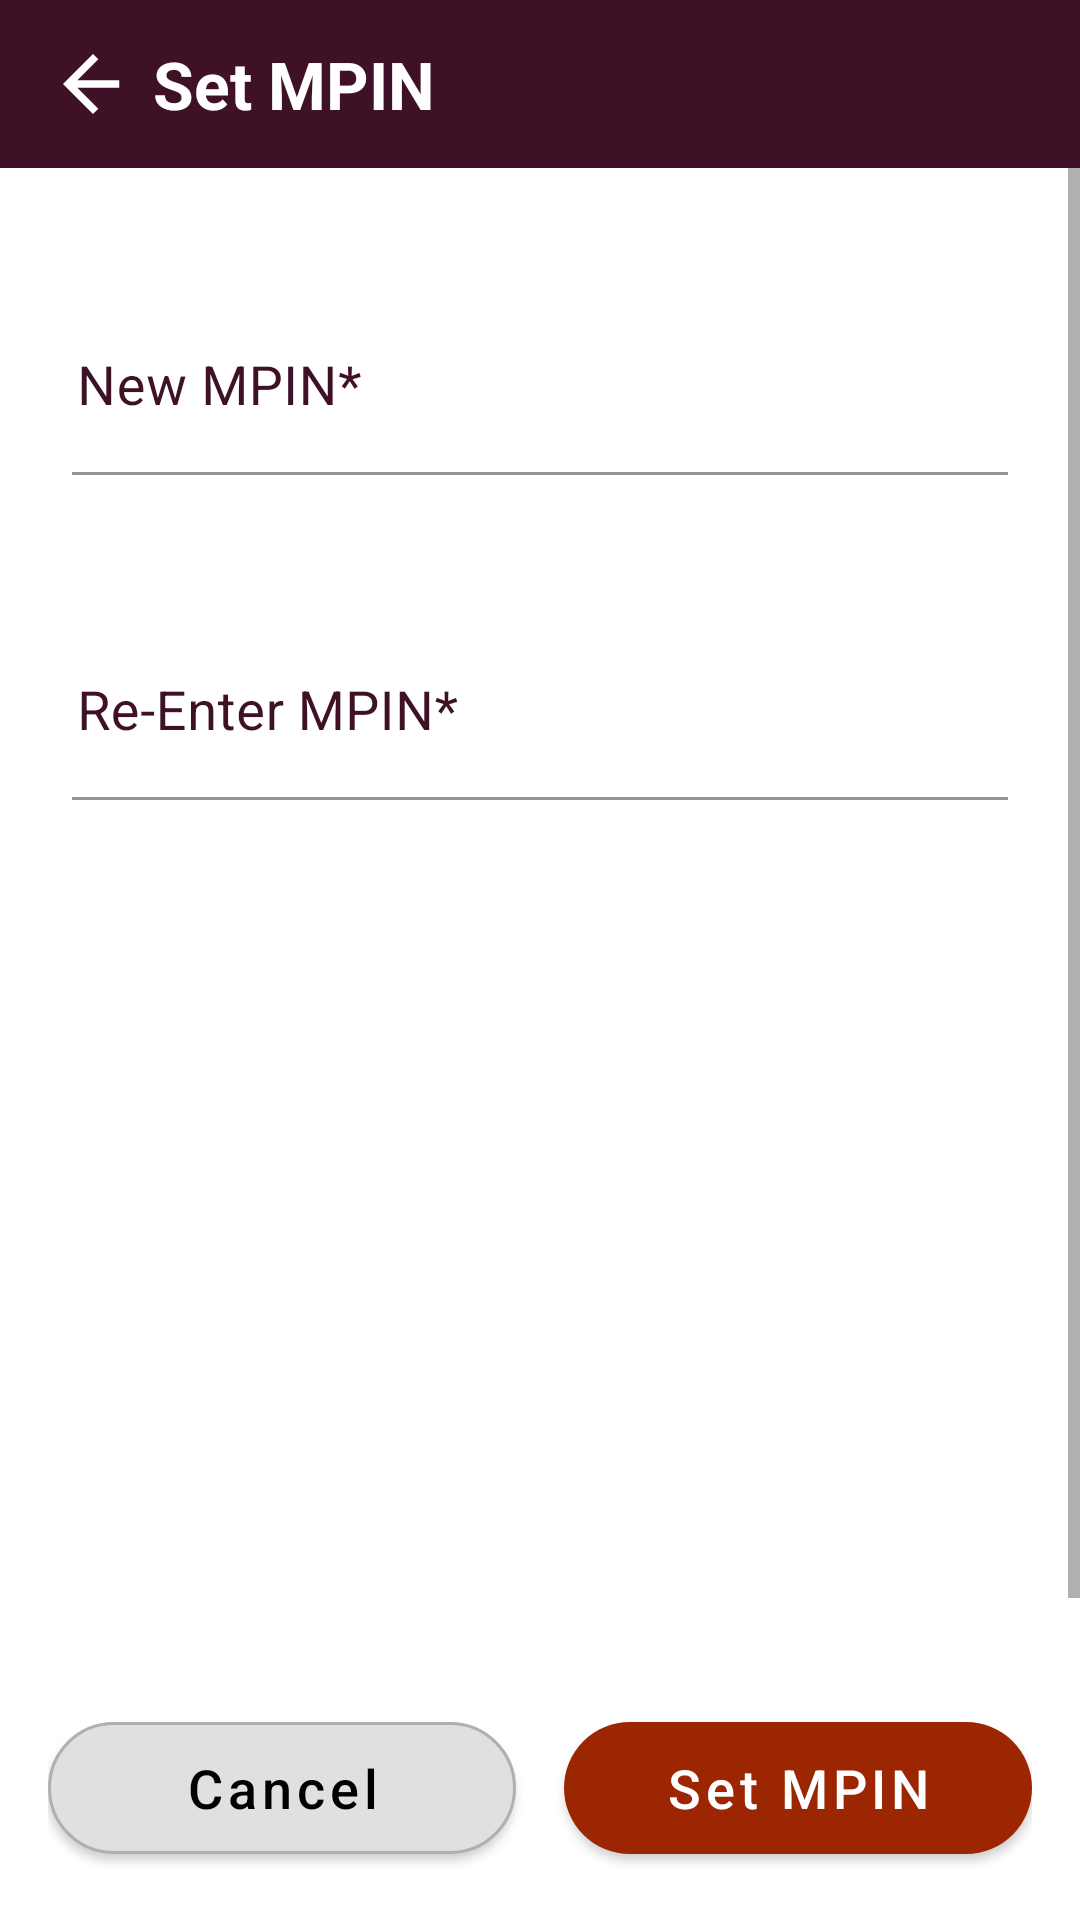

Point at icon controls on the screen. Image size 1080x1920, points as point (x, y).
Back: point (91, 84)
